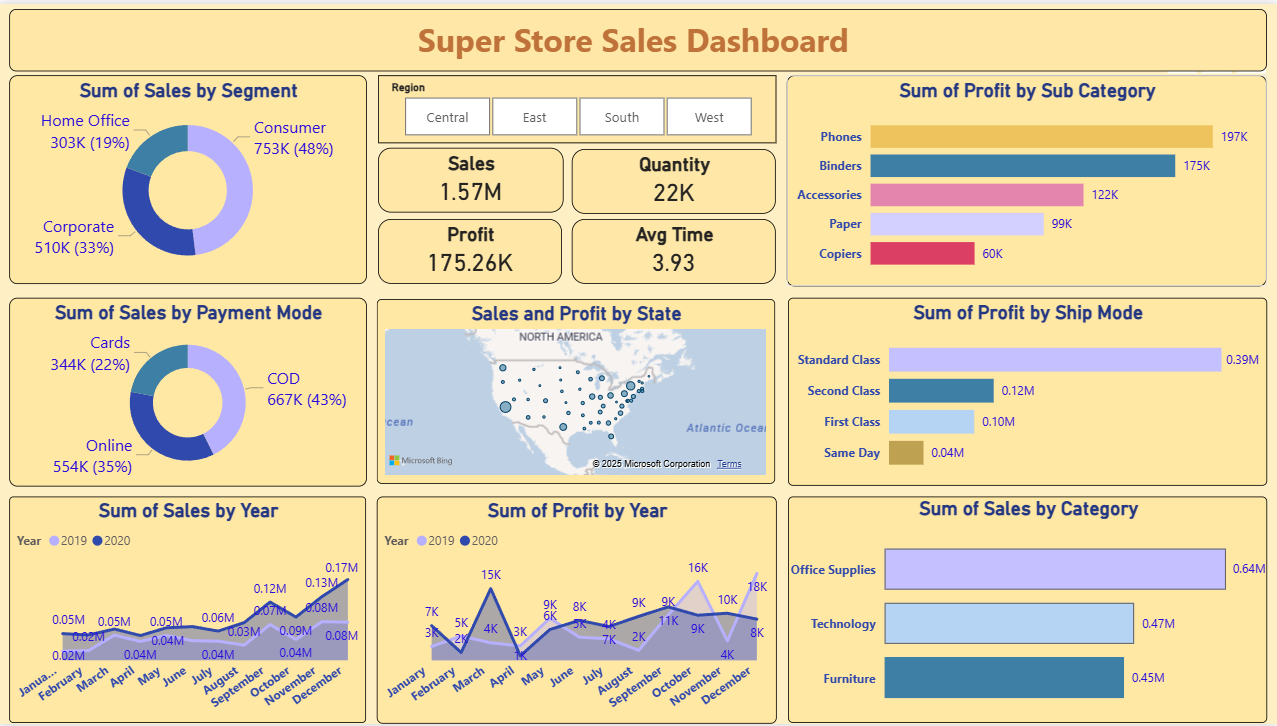

What the dashboard file says about the page in this screenshot:
{"tool":"powerbi","page":{"name":"Page 1","canvas":[1280,720],"ordinal":0},"visuals":[{"type":"clusteredBarChart","fields":{"Category":["Sheet1.Category"],"Y":["Sum(Sheet1.Sales)"]},"box":[789.5,493,479.1,226.7],"z":0},{"type":"clusteredBarChart","title":"Sum of Profit by Ship Mode","fields":{"Category":["Sheet1.Ship Mode"],"Y":["Sum(Sheet1.Sales)"]},"box":[789.5,294.2,479.1,188.4],"z":1000},{"type":"areaChart","title":"Sum of Sales by Year","fields":{"Y":["Sum(Sheet1.Sales)"],"Category":["Sheet1.Order Date.Variation.Date Hierarchy.Month","Sheet1.Order Date.Variation.Date Hierarchy.Day"],"Series":["Sheet1.Order Date.Variation.Date Hierarchy.Year"]},"box":[11.6,493,357,226.7],"z":2000},{"type":"areaChart","title":"Sum of Profit by Year","fields":{"Category":["Sheet1.Order Date.Variation.Date Hierarchy.Month"],"Y":["Sum(Sheet1.Profit)"],"Series":["Sheet1.Order Date.Variation.Date Hierarchy.Year"]},"box":[379.1,492.5,400,226.9],"z":3000},{"type":"map","title":"Sales and Profit by State","fields":{"Category":["Sheet1.State"],"Size":["Sum(Sheet1.Sales)"]},"box":[379.3,294.8,398.3,184.5],"z":4000},{"type":"donutChart","fields":{"Y":["Sum(Sheet1.Sales)"],"Category":["Sheet1.Segment"]},"box":[11.2,71.5,357.3,208.8],"z":5000},{"type":"donutChart","fields":{"Y":["Sum(Sheet1.Sales)"],"Category":["Sheet1.Payment Mode"]},"box":[11.2,293.7,357.3,188.7],"z":6000},{"type":"card","title":"Sales ","fields":{"Values":["Sum(Sheet1.Sales)"]},"box":[379.7,144,185.4,64.8],"z":7000},{"type":"card","title":"Quantity","fields":{"Values":["Sum(Sheet1.Quantity)"]},"box":[573.9,145.2,204.3,64.8],"z":8000},{"type":"card","title":"Profit ","fields":{"Values":["Sum(Sheet1.Profit)"]},"box":[379.7,215.5,184.2,64.8],"z":9000},{"type":"card","title":"Avg Time","fields":{"Values":["Avg(Sheet1.Avgdelivery)"]},"box":[573.9,215.5,204.3,64.8],"z":10000},{"type":"clusteredBarChart","title":"Sum of Profit by Sub Category","fields":{"Y":["Sum(Sheet1.Sales)"],"Category":["Sheet1.Sub-Category"]},"box":[788.3,71.5,480.2,211],"z":11000},{"type":"textbox","box":[11.2,5.6,1257.3,62.5],"z":12000},{"type":"slicer","fields":{"Values":["Sheet1.Region"]},"box":[379.7,71.5,398.6,68.1],"z":13000}]}

Visuals, with their boxes in screenshot pixels (x1, y1, x2, y2), scaled from the page's 1280x720 canvas onto the 1277x726 screenshot:
clusteredBarChart - Sheet1.Category x Sum(Sheet1.Sales): detection(788, 497, 1266, 725)
"Sum of Profit by Ship Mode" clusteredBarChart: detection(788, 297, 1266, 487)
"Sum of Sales by Year" areaChart: detection(12, 497, 368, 725)
"Sum of Profit by Year" areaChart: detection(378, 497, 777, 725)
"Sales and Profit by State" map: detection(378, 297, 776, 483)
donutChart - Sum(Sheet1.Sales) x Sheet1.Segment: detection(11, 72, 368, 283)
donutChart - Sum(Sheet1.Sales) x Sheet1.Payment Mode: detection(11, 296, 368, 486)
"Sales " card: detection(379, 145, 564, 211)
"Quantity" card: detection(573, 146, 776, 212)
"Profit " card: detection(379, 217, 563, 283)
"Avg Time" card: detection(573, 217, 776, 283)
"Sum of Profit by Sub Category" clusteredBarChart: detection(786, 72, 1266, 285)
textbox: detection(11, 6, 1266, 69)
slicer - Sheet1.Region: detection(379, 72, 776, 141)
